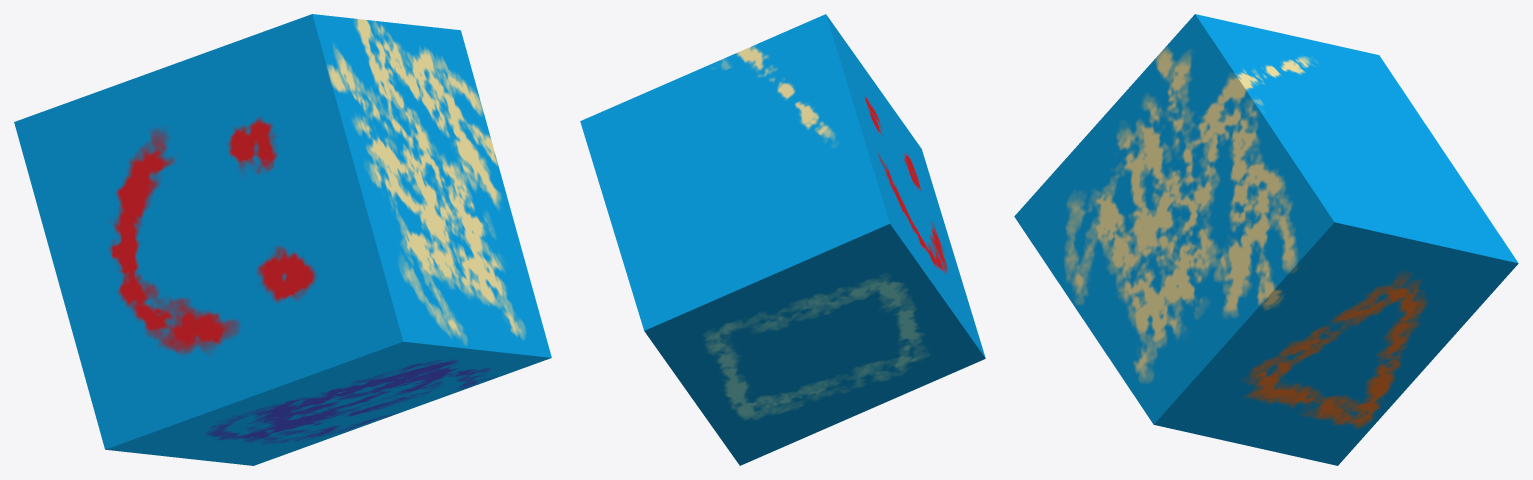
Rendered from cube_blue.glb.
3 renders of one model, left to right at view 1: azimuth 30°, elevation 25°; view 2: azimuth 150°, elevation 25°; view 3: azimuth 270°, elevation 25°, orthographic. The views are drawn at different scales.
Visible parts, largest first — view 1: mesh_id29; view 2: mesh_id29; view 3: mesh_id29.
Part boxes in pixels (left/top/right/bottom): mesh_id29: left=14, top=14, right=551, bottom=465; mesh_id29: left=580, top=14, right=985, bottom=465; mesh_id29: left=1014, top=14, right=1518, bottom=465.
Size of the model in its own units: 0.2915 by 0.332 by 0.3439.
Materials: 1 (1 with a texture image).
